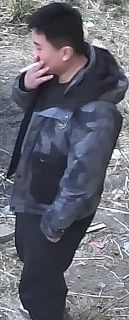smoking: (8, 10, 81, 114)
